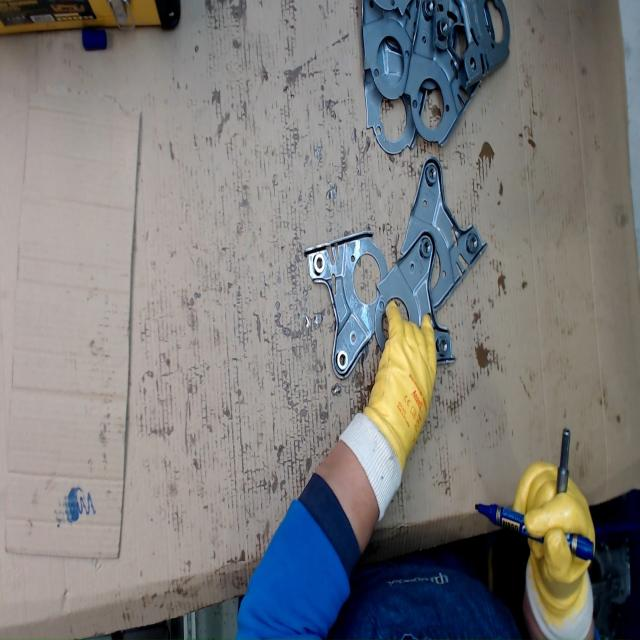hands: (510, 458, 596, 620), (363, 298, 440, 460)
